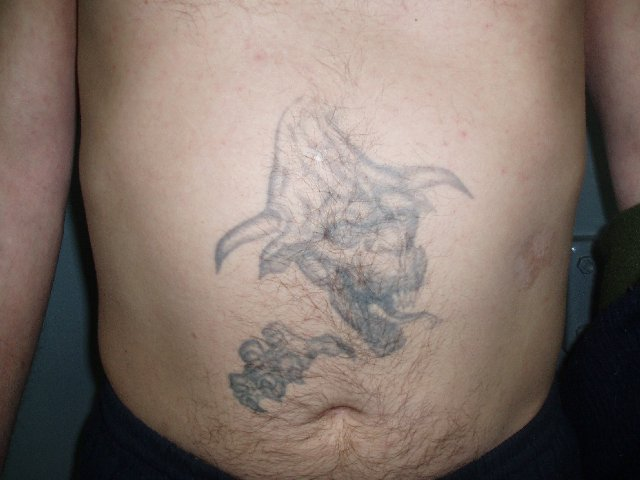tatu6_drakon: (203, 77, 495, 426)
